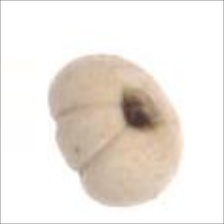L5: (52, 102, 128, 173), (116, 81, 164, 134)
L6: (44, 54, 184, 208)
